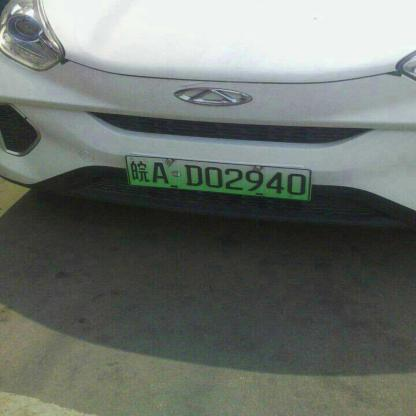lp: (125, 156, 310, 201)
